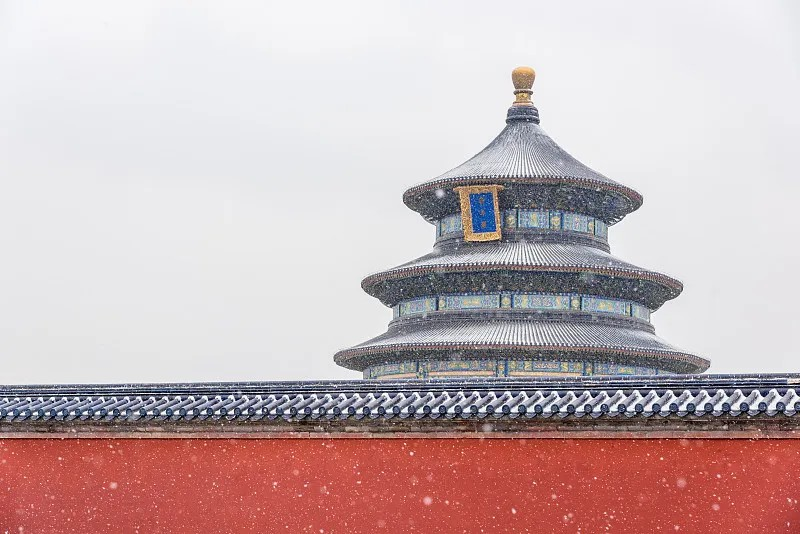Heaven: (331, 66, 715, 375)
